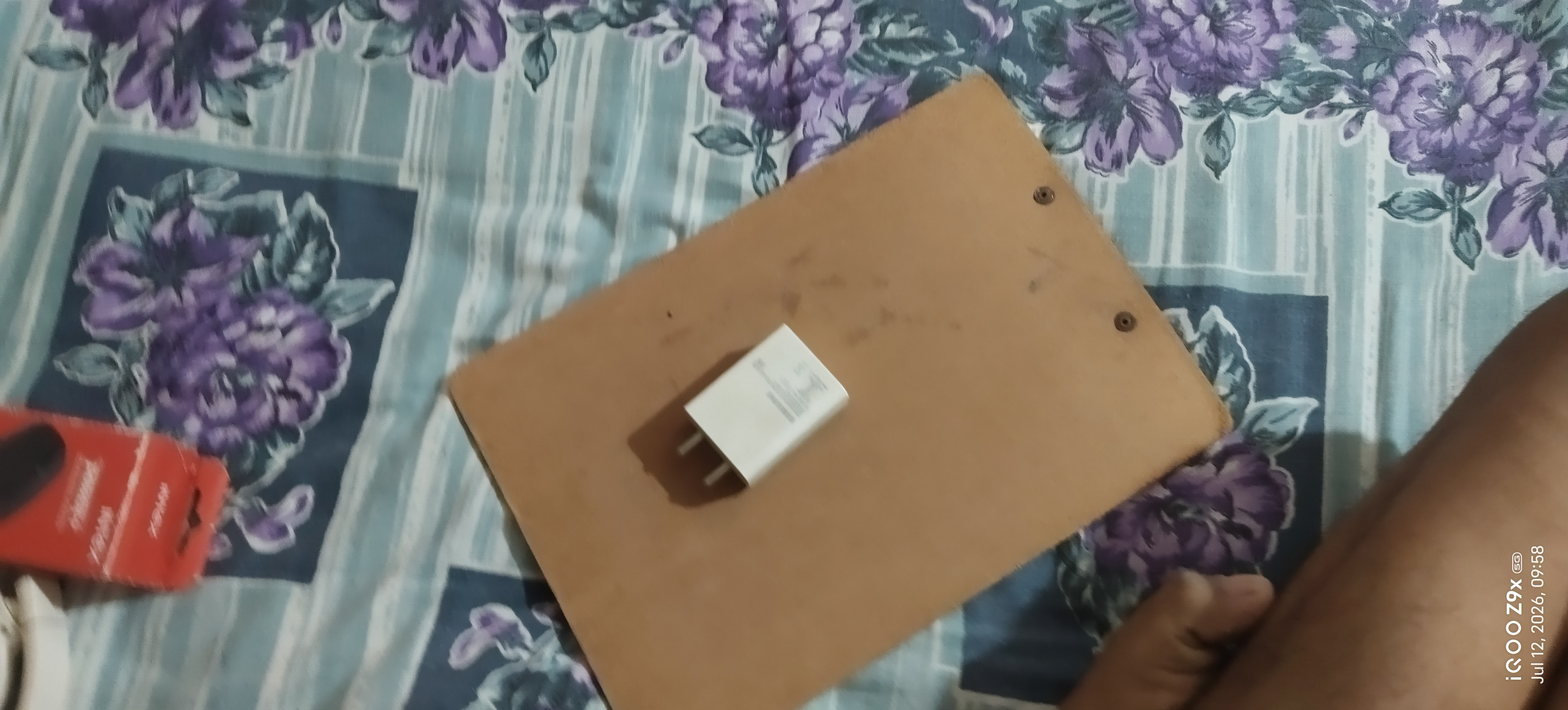charger: (667, 315, 867, 508)
